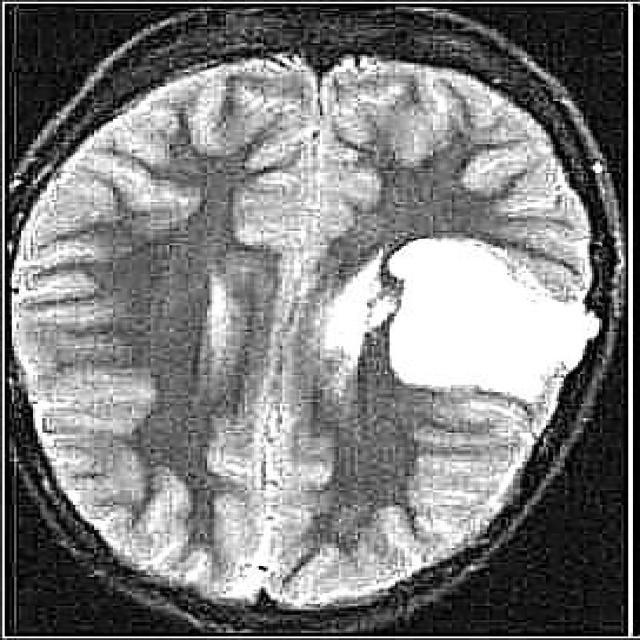Tumor: (383, 240, 601, 401)
